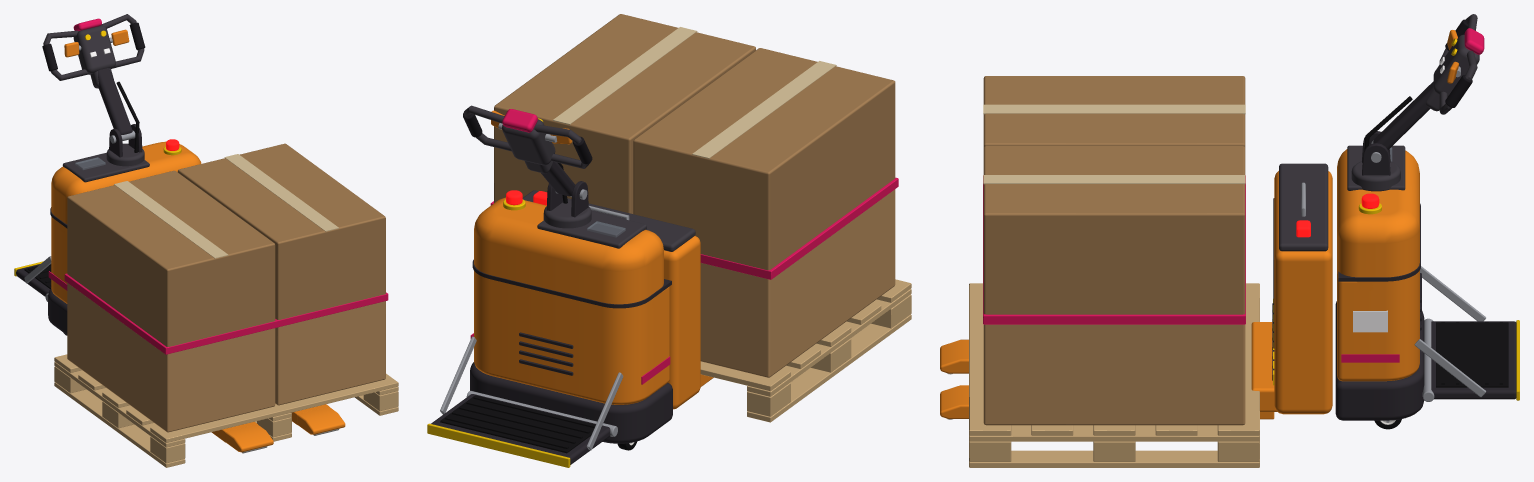
Rendered from ppt.glb.
The picture shows the model from 3 angles, left to right: view 1: azimuth 30°, elevation 25°; view 2: azimuth 150°, elevation 25°; view 3: azimuth 270°, elevation 25°; orthographic projection. The views are drawn at different scales.
Parts seen in each view (by area): view 1: pal_top, bumper, head_body, batt_box; view 2: pal_top, bumper, batt_box, head_body; view 3: pal_top, bumper, batt_box, head_body.
Boxes of the visible parts, <box> form: pal_top: <box>54,143,398,467</box>; bumper: <box>14,68,201,334</box>; head_body: <box>42,14,145,88</box>; batt_box: <box>211,404,345,453</box>; pal_top: <box>490,14,911,422</box>; bumper: <box>427,161,672,467</box>; batt_box: <box>522,190,713,409</box>; head_body: <box>463,105,592,173</box>; pal_top: <box>969,76,1259,467</box>; bumper: <box>1335,81,1519,420</box>; batt_box: <box>940,163,1332,419</box>; head_body: <box>1426,14,1484,114</box>.
Bounding box in the file's own units: 1.2 × 1.37 × 1.99.
